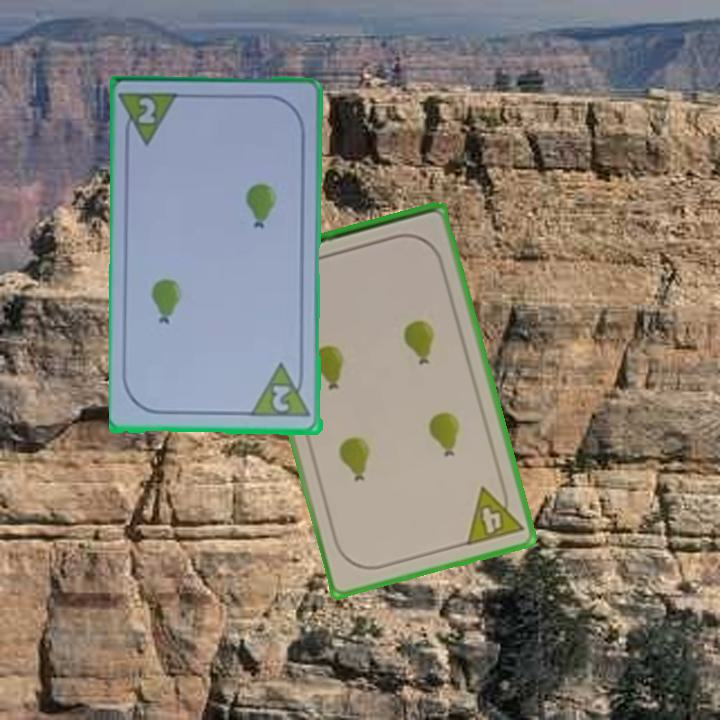2p: (119, 89, 184, 150), (269, 381, 294, 415)
4p: (462, 478, 526, 549)
